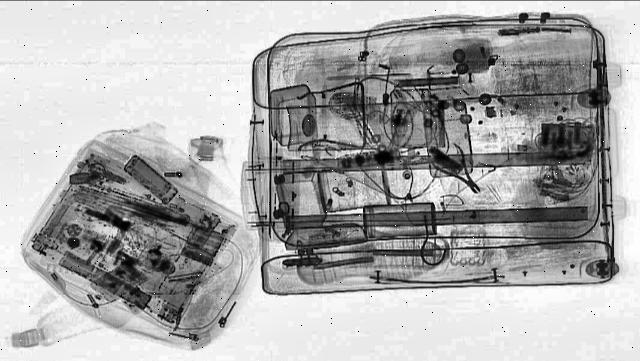Pliers: (421, 141, 492, 197)
